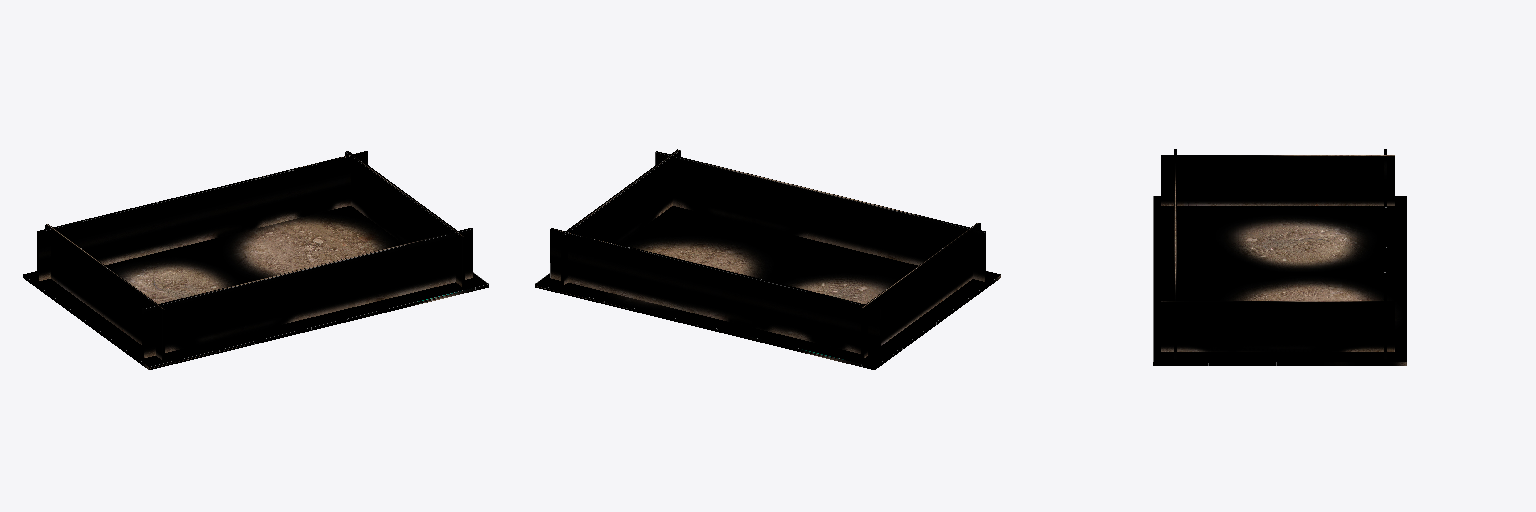
3 renders of one model, left to right at view 1: azimuth 30°, elevation 25°; view 2: azimuth 150°, elevation 25°; view 3: azimuth 270°, elevation 25°, orthographic.
Parts seen in each view (by area): view 1: floor, east_wall, west_wall, south_wall, north_wall; view 2: floor, west_wall, east_wall, south_wall, north_wall; view 3: floor, north_wall, south_wall, east_wall, west_wall.
Part boxes in pixels (x1,y1,x2,y2): floor: (23,206,488,369); east_wall: (142,228,472,357); west_wall: (37,151,367,280); south_wall: (45,224,164,359); north_wall: (345,151,464,286); floor: (535,206,1000,369); west_wall: (550,228,880,358); east_wall: (655,151,985,281); south_wall: (861,223,980,358); north_wall: (561,149,680,284); floor: (1153,196,1406,365); north_wall: (1161,301,1394,351); south_wall: (1161,155,1394,205); east_wall: (1174,149,1176,358); west_wall: (1384,149,1386,358).
Bounding box in the file's own units: 54.16 × 8.08 × 34.9.
Materials: 1 (1 with a texture image).